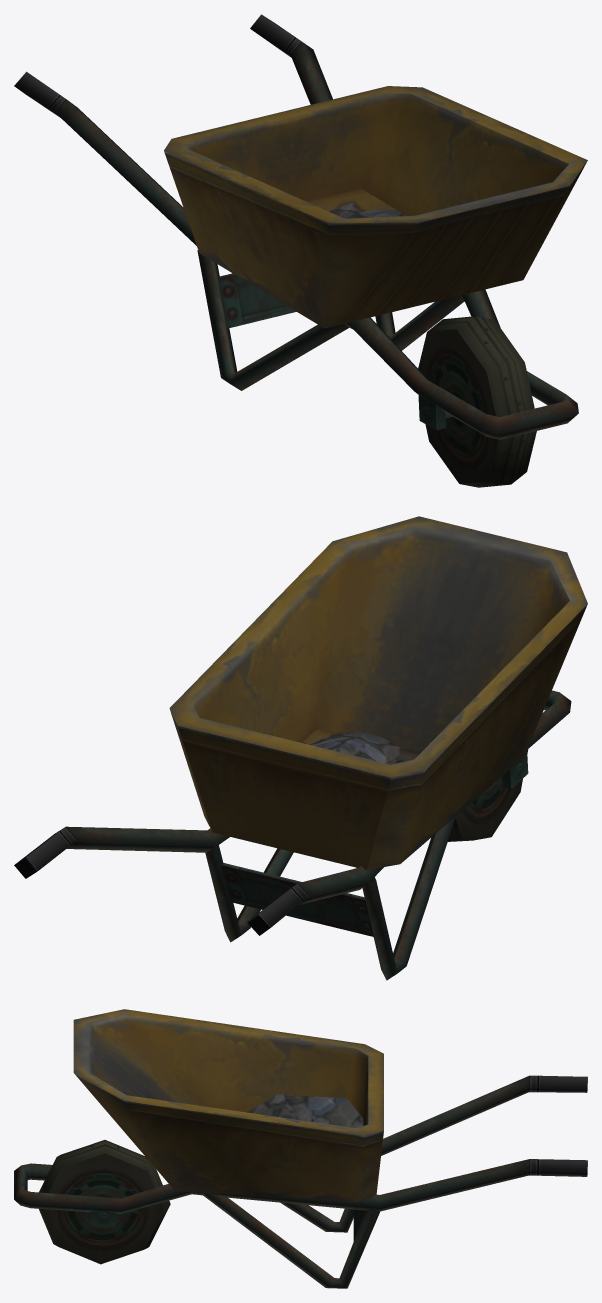
Rendered from mi_ruin008.FBX.
3 views of the same model, one above another, from view 1: azimuth 30°, elevation 25°; view 2: azimuth 150°, elevation 25°; view 3: azimuth 270°, elevation 25° (orthographic). The views are drawn at different scales.
Parts seen in each view (by area): view 1: mi_ruin008; view 2: mi_ruin008; view 3: mi_ruin008.
Boxes of the visible parts, x1=… form: mi_ruin008: x1=14, y1=14, x2=587, y2=487; mi_ruin008: x1=14, y1=516, x2=587, y2=980; mi_ruin008: x1=14, y1=1009, x2=587, y2=1288.
Bounding box in the file's own units: 0.797 × 0.8599 × 2.07.
Materials: 1 (1 with a texture image).
